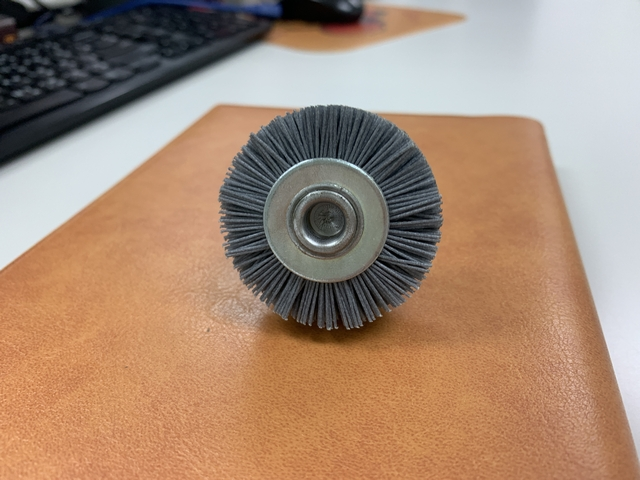Wheel Brush: (205, 103, 491, 342), (220, 102, 438, 333)
